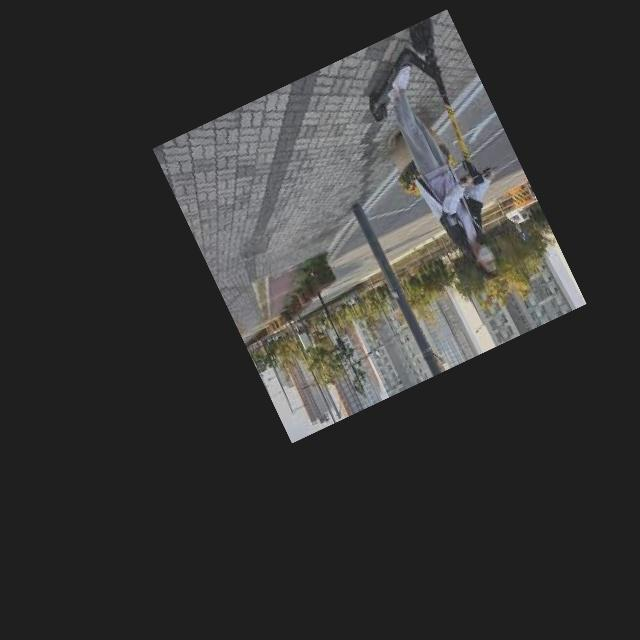bare_head: (473, 246, 508, 284)
human: (374, 86, 515, 265)
kickboard: (360, 57, 468, 108)
